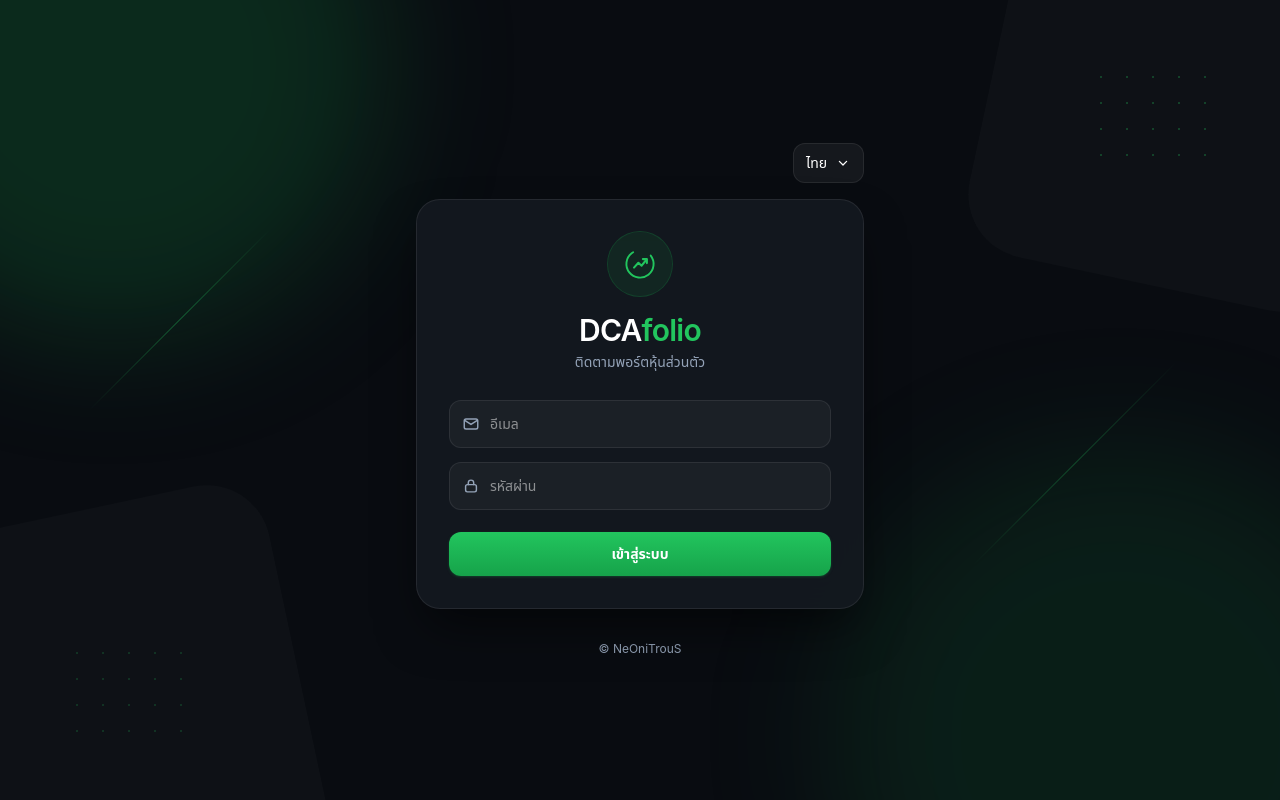
Test: language selector › offers exactly two options and marks the active one
What coordinates should you click on to do the following:
click the button "ไทย"
I would click on:
 (828, 163)
Its box is [793, 143, 864, 183].
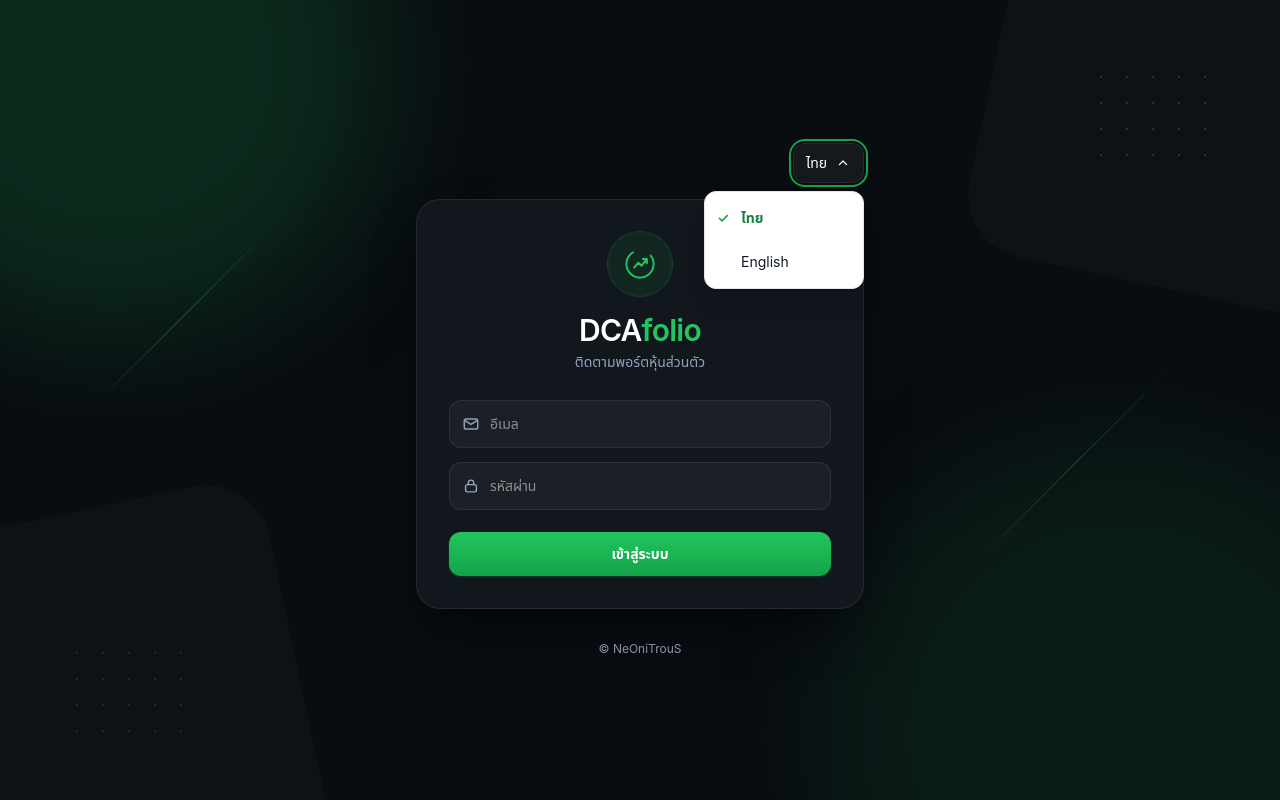
Result: the number of menu items is 2 at [705, 196, 863, 240]; [705, 240, 863, 284]
